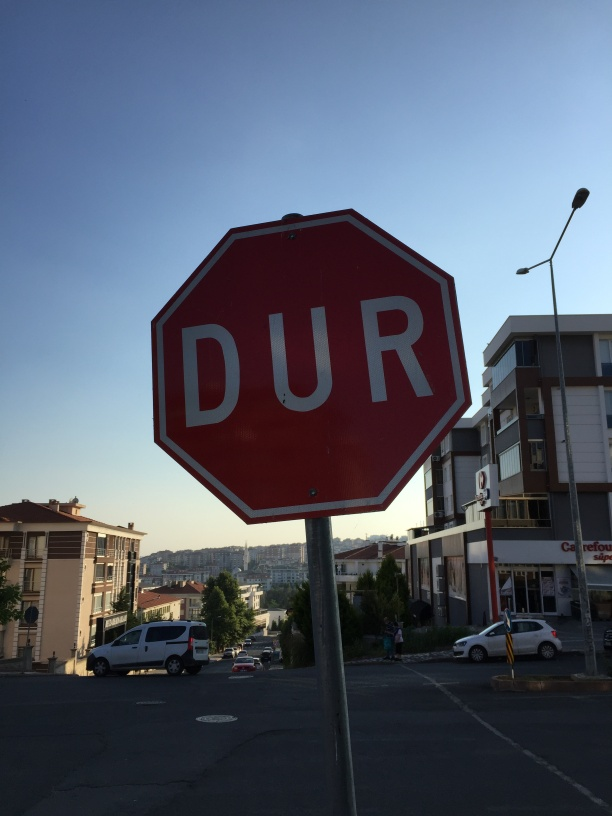arac_dur_isareti: (117, 143, 493, 702)
